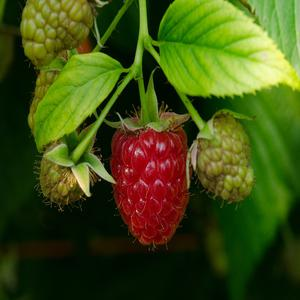raspb: (25, 1, 267, 255)
